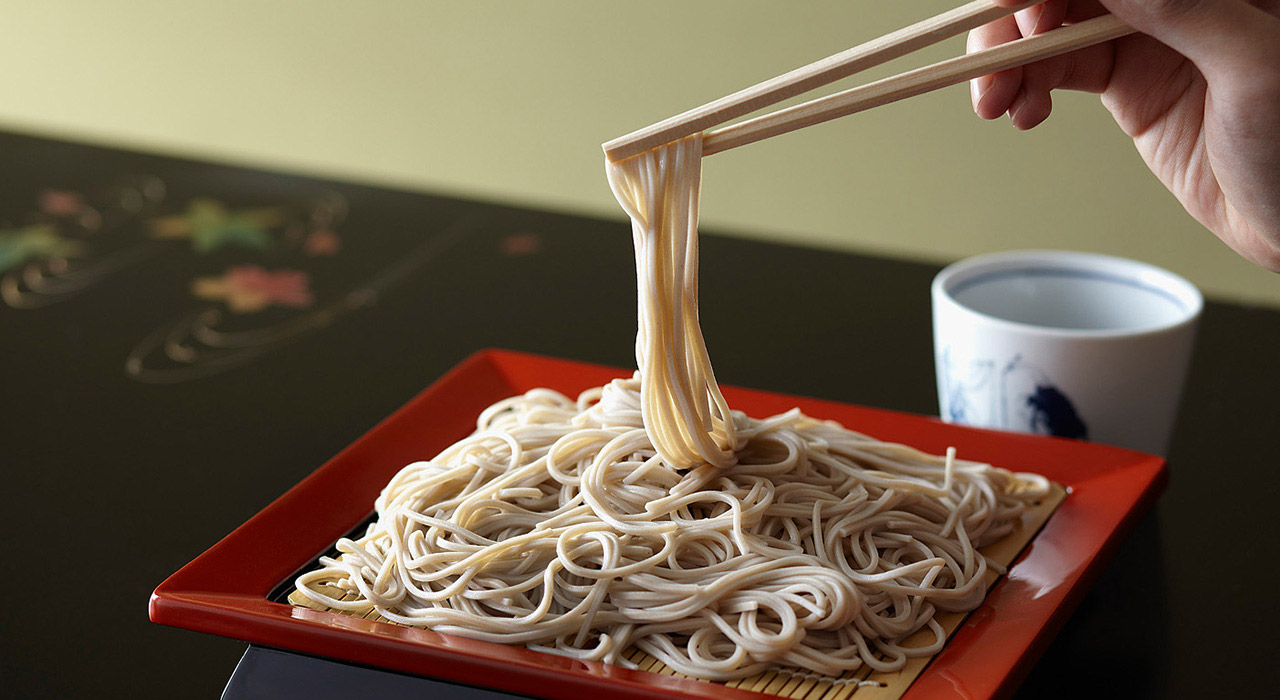Soba: (302, 368, 1081, 687), (595, 133, 749, 462)
